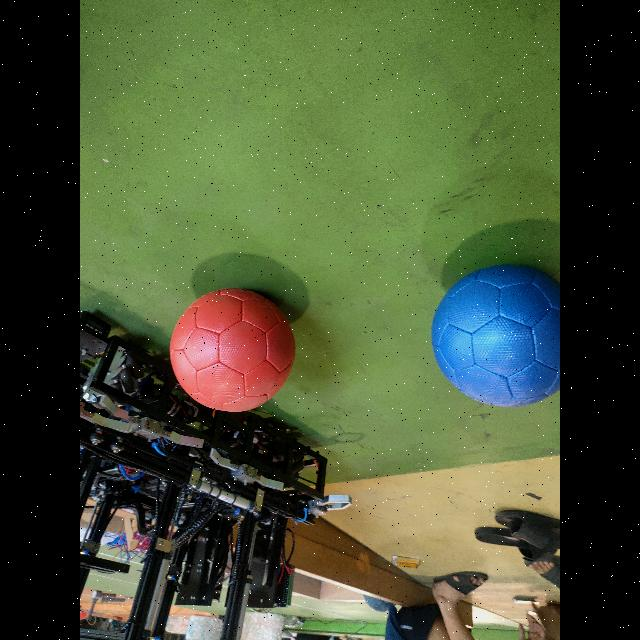B: (432, 265, 560, 407)
R: (170, 289, 296, 411)
